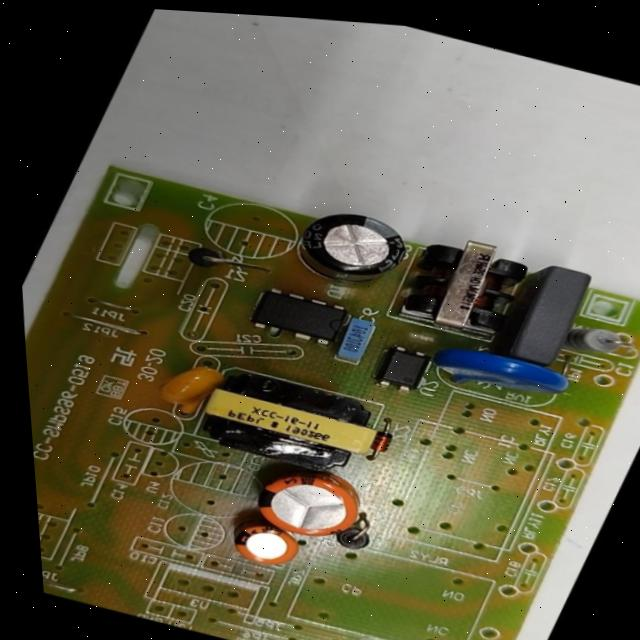Cap1: (241, 459, 374, 546)
Cap2: (227, 517, 310, 572)
Cap3: (282, 199, 422, 295)
MOSFET: (246, 284, 355, 348)
Mov: (424, 338, 578, 408)
Resistor: (558, 319, 636, 364)
Transformer: (183, 361, 394, 484), (393, 229, 538, 338)
